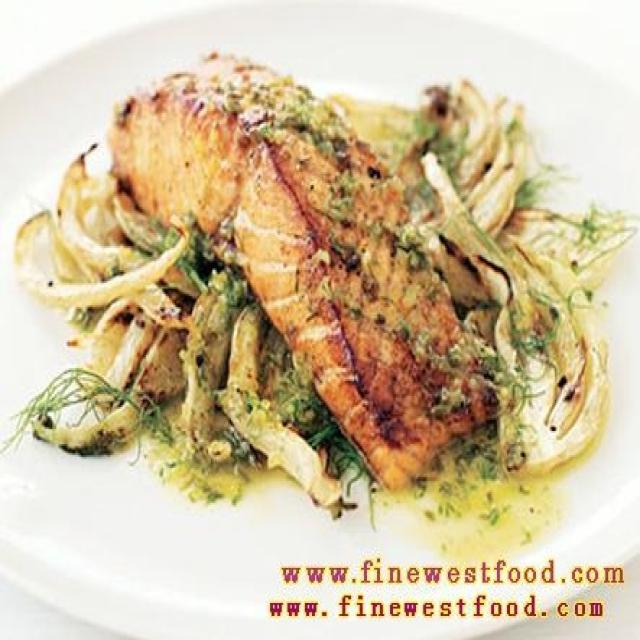熟制海鲜: (7, 13, 630, 601)
